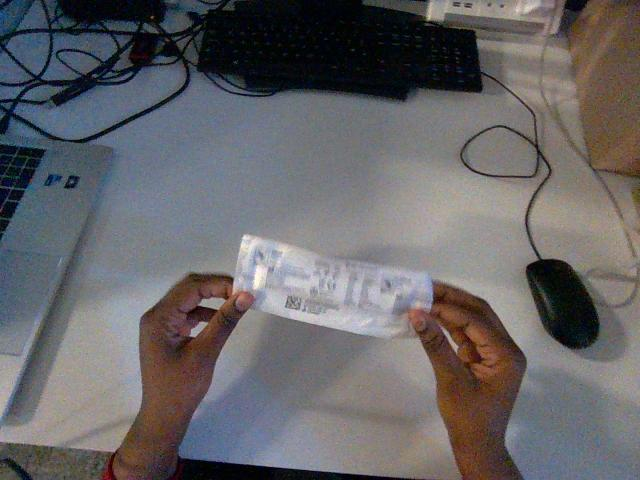syringe: (233, 235, 432, 337)
